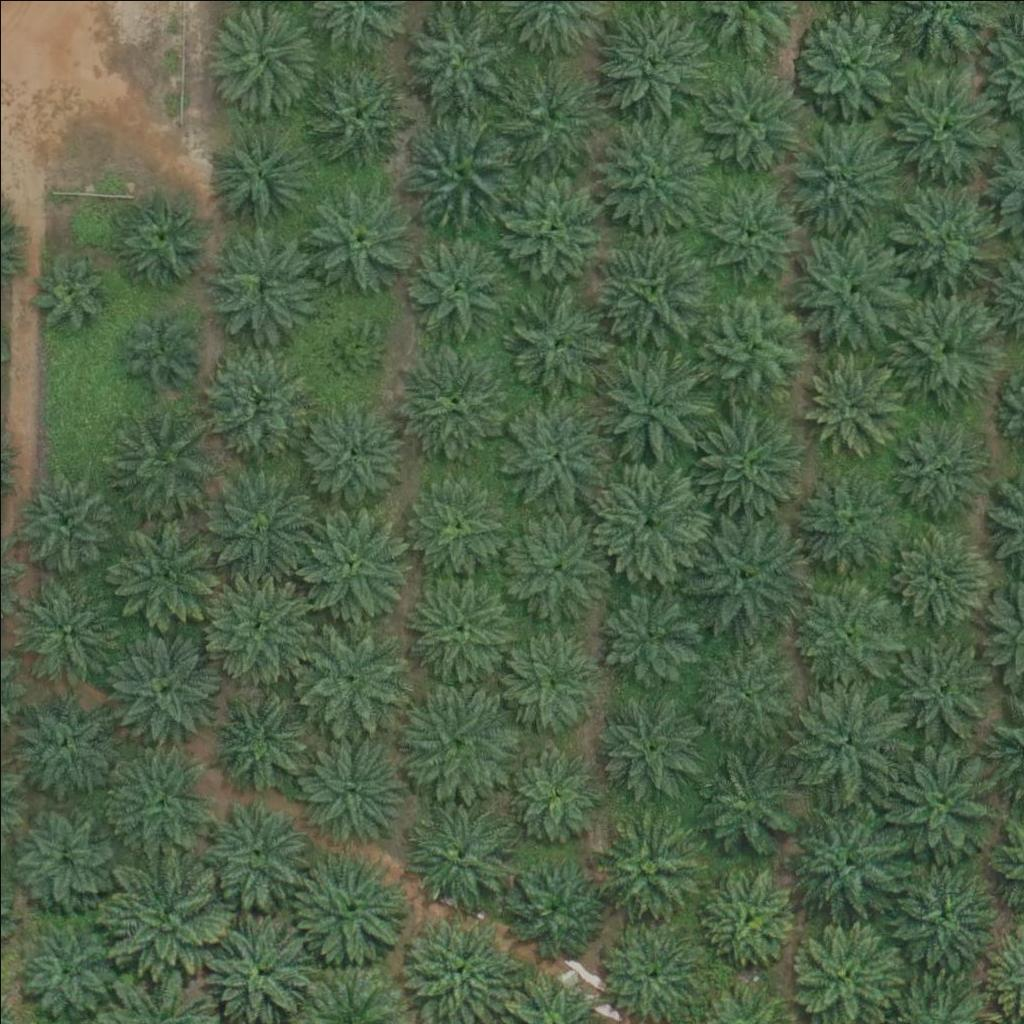Kelapa_Sawit: (199, 347, 312, 461), (293, 506, 406, 620), (687, 746, 800, 860), (698, 290, 811, 404), (593, 232, 706, 346), (593, 114, 706, 228), (494, 58, 607, 172), (290, 854, 403, 967), (108, 858, 221, 971), (11, 578, 124, 691), (195, 567, 308, 680), (201, 472, 314, 585), (294, 732, 407, 845), (290, 616, 403, 729), (403, 797, 516, 910), (398, 683, 511, 796), (591, 464, 704, 577), (594, 352, 707, 465), (690, 634, 803, 747), (685, 515, 798, 628), (692, 403, 805, 516), (790, 803, 903, 916), (788, 681, 901, 794), (888, 70, 1001, 183), (597, 2, 710, 115), (301, 181, 414, 294), (304, 59, 417, 172), (205, 224, 318, 337), (201, 120, 314, 233), (594, 811, 706, 925), (398, 568, 510, 682), (595, 687, 707, 801), (493, 168, 605, 282), (401, 3, 513, 117), (881, 863, 993, 976), (103, 741, 215, 854), (106, 630, 218, 743), (101, 518, 213, 631), (102, 411, 214, 524), (196, 796, 308, 909), (396, 343, 508, 456), (497, 506, 609, 619), (493, 396, 605, 509), (788, 575, 900, 688), (790, 462, 902, 575), (883, 744, 995, 857), (886, 633, 998, 746), (893, 292, 1005, 405), (890, 176, 1002, 289), (791, 232, 903, 345), (785, 120, 897, 233), (791, 8, 903, 121), (692, 65, 804, 178), (499, 287, 611, 400), (401, 111, 513, 224), (505, 858, 605, 959), (15, 920, 115, 1021), (13, 801, 113, 902), (13, 697, 113, 798), (12, 470, 112, 571), (203, 691, 303, 792), (799, 355, 899, 456), (891, 523, 991, 624), (886, 417, 986, 518), (403, 234, 503, 335), (695, 867, 795, 967), (298, 403, 398, 503), (405, 472, 505, 572), (504, 740, 604, 840), (499, 626, 599, 726), (596, 582, 696, 682), (700, 177, 800, 277), (115, 192, 203, 281), (119, 305, 194, 381), (33, 255, 108, 330), (315, 315, 377, 378)
